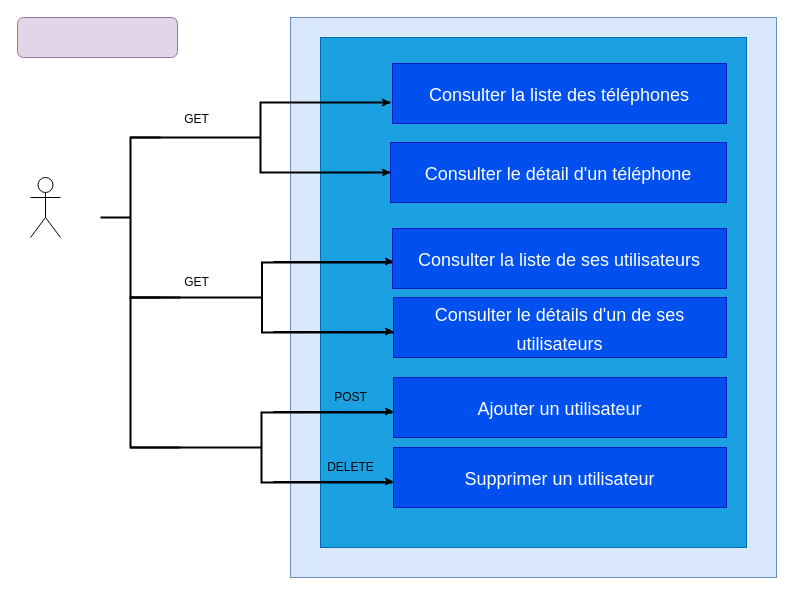
This 794x595 diagram has some shape labels left out. Each missing label, with the centre of its shape:
"BileMo" goes at point 97,37.
"Client" goes at point 45,207.
